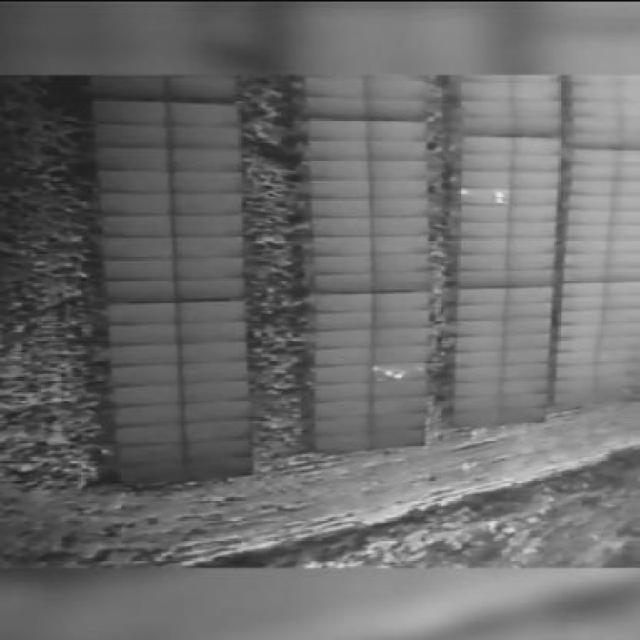hotspot: (391, 368, 406, 378), (369, 362, 383, 371), (458, 187, 470, 195), (493, 197, 509, 203), (382, 368, 392, 377), (493, 191, 505, 197)
